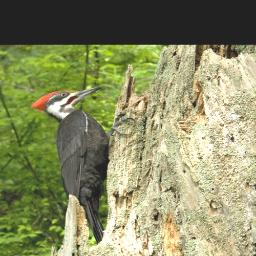Woodpecker: (29, 86, 136, 246)
